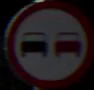No overtake: (9, 7, 86, 78)
